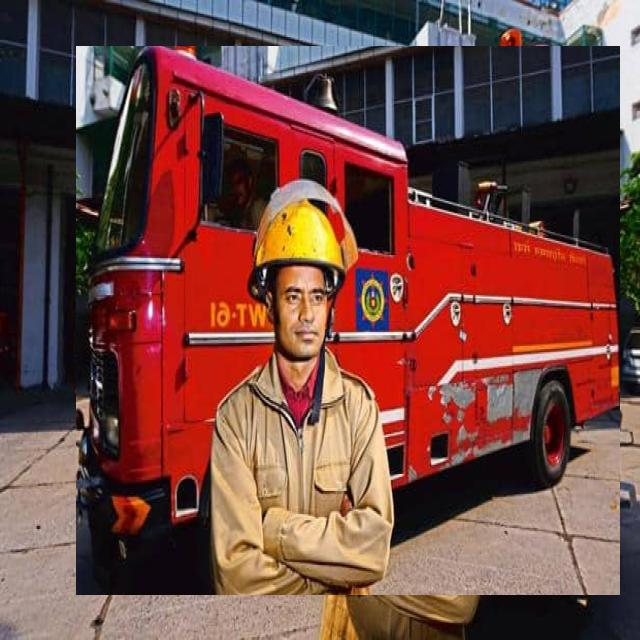emergency: (76, 47, 620, 595)
